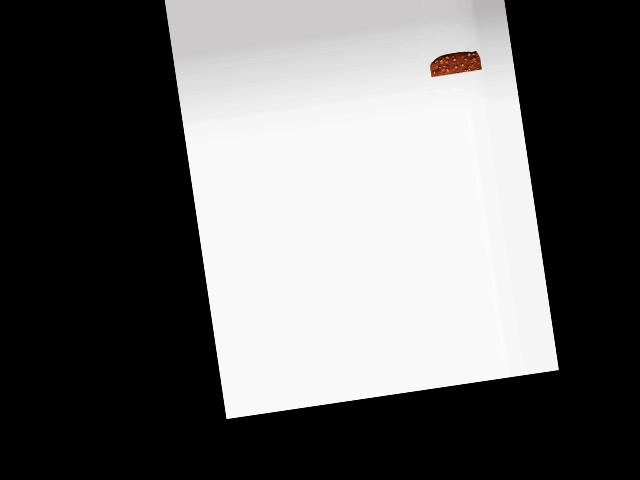chocolate: (428, 45, 481, 79)
